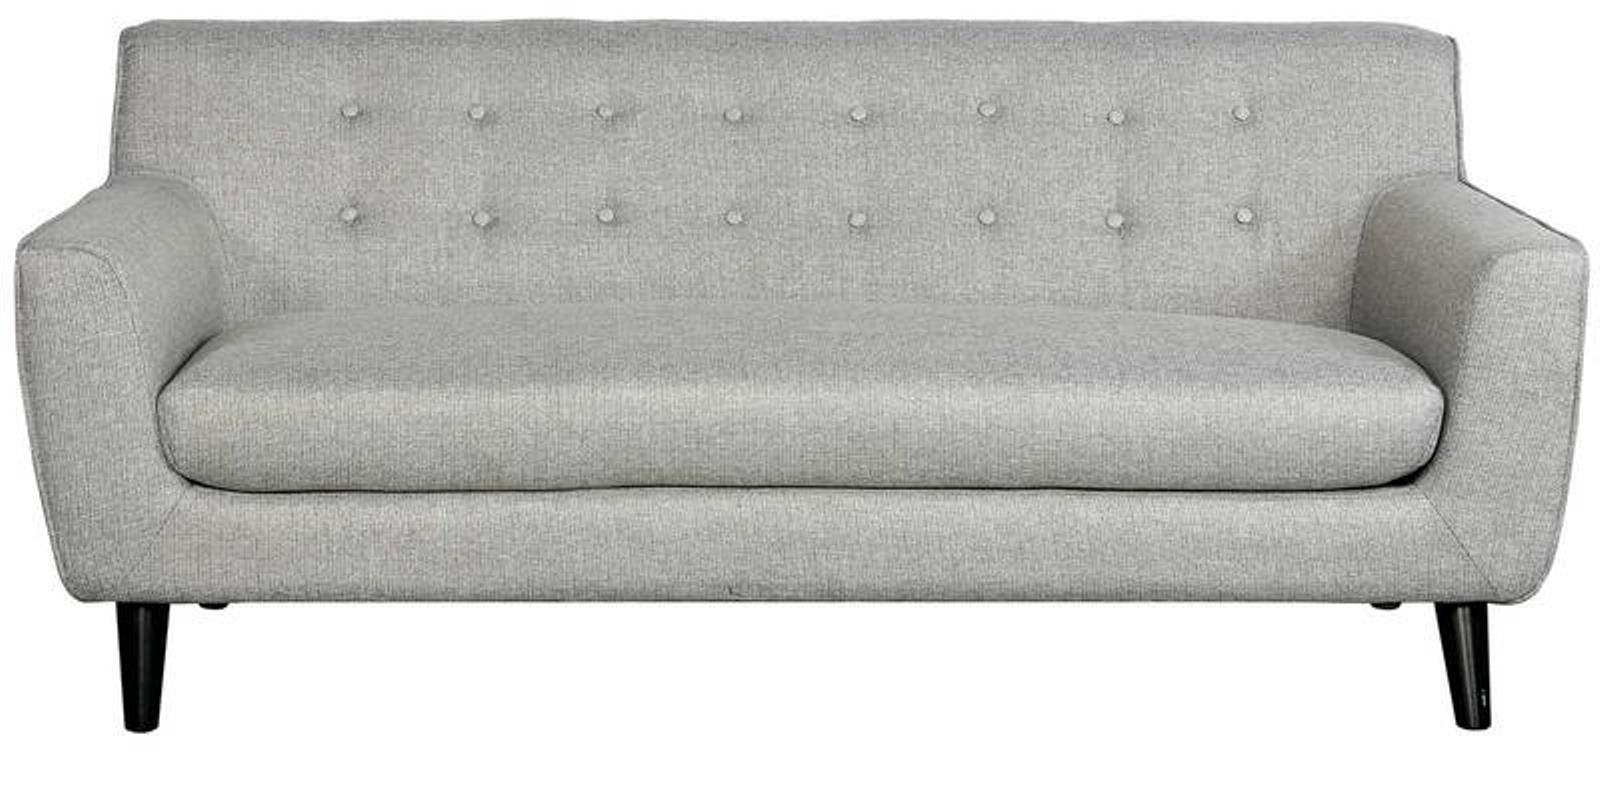Bogota Three Seater Sofa in Grey Colour by CasaCraft: (18, 8, 1590, 738)
